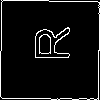R: (25, 25, 70, 63)
